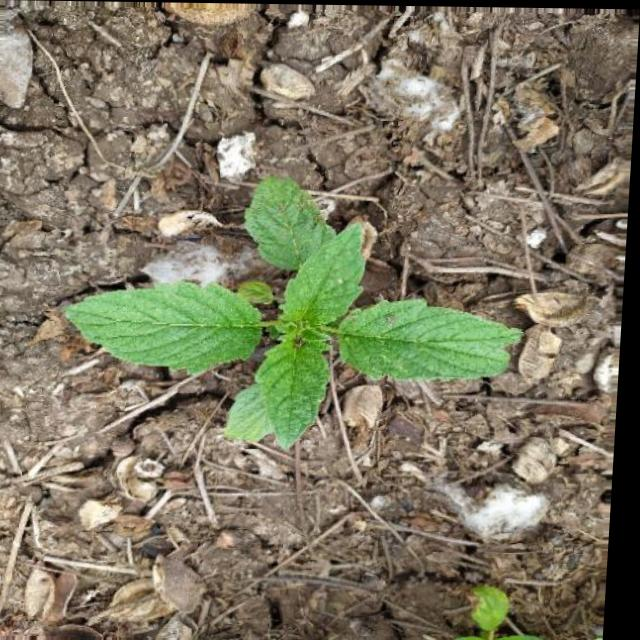crop: (70, 169, 555, 465)
